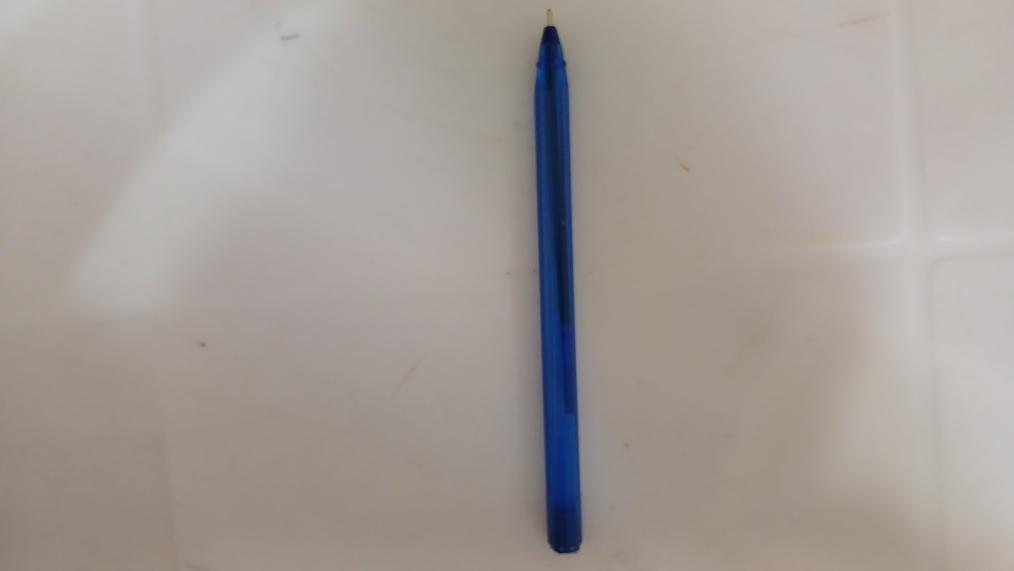pen: (537, 2, 582, 556)
